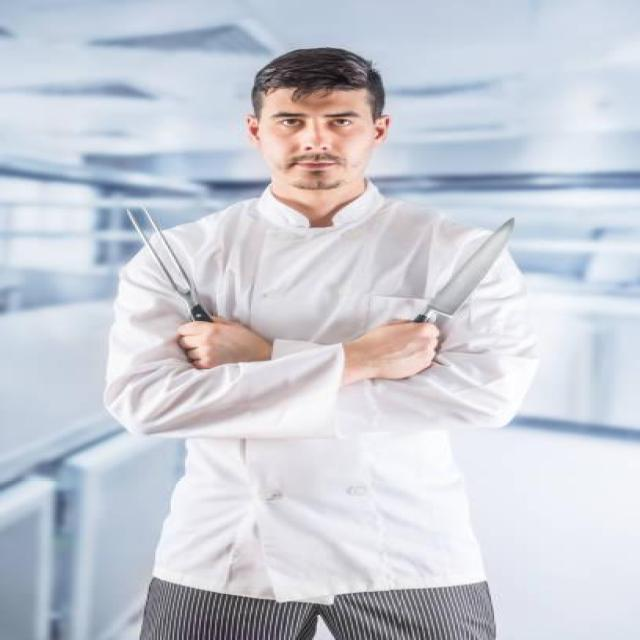faca: (381, 200, 519, 380)
